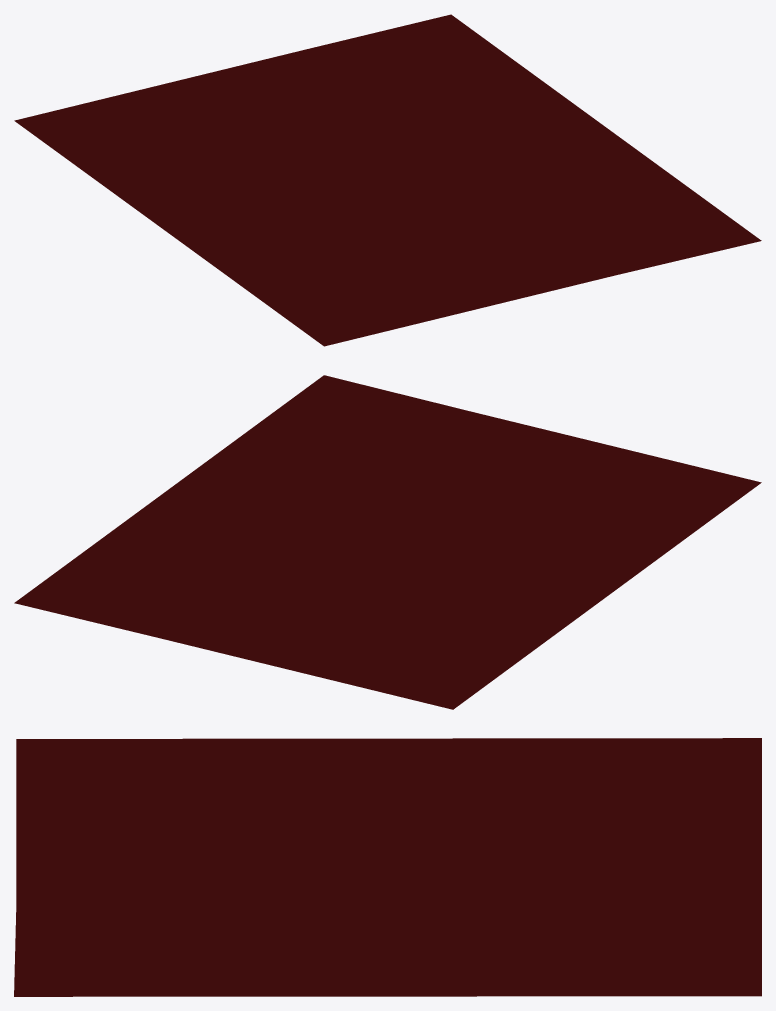
File: wpn__dual_swords_01_01__trail_l.glb
The picture shows the model from 3 angles, top to bottom: view 1: azimuth 30°, elevation 25°; view 2: azimuth 150°, elevation 25°; view 3: azimuth 270°, elevation 25°; orthographic projection. The views are drawn at different scales.
Parts seen in each view (by area): view 1: wpn__dual_swords_01_01__trail_l; view 2: wpn__dual_swords_01_01__trail_l; view 3: wpn__dual_swords_01_01__trail_l.
Boxes of the visible parts, left/top/right/bottom form: wpn__dual_swords_01_01__trail_l: left=14, top=14, right=761, bottom=346; wpn__dual_swords_01_01__trail_l: left=14, top=375, right=761, bottom=709; wpn__dual_swords_01_01__trail_l: left=14, top=738, right=761, bottom=996.
Size of the model in its own units: 60.14 by 0.0591 by 73.63.
